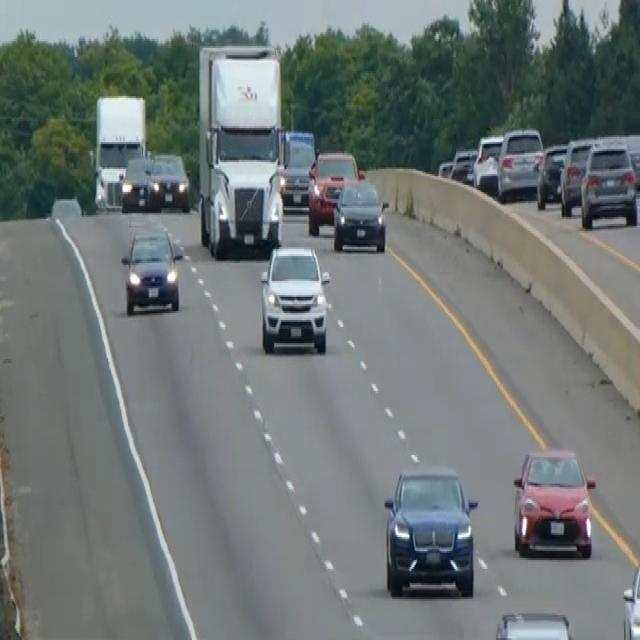car: (382, 464, 478, 597), (512, 444, 596, 558), (120, 226, 183, 314), (580, 138, 638, 228), (307, 149, 360, 235), (332, 176, 388, 252), (497, 126, 544, 201), (277, 126, 316, 208), (559, 135, 597, 215), (493, 608, 576, 638), (120, 153, 161, 211), (150, 151, 190, 210), (535, 142, 568, 208), (472, 133, 503, 192), (621, 556, 639, 638), (448, 146, 476, 185), (437, 156, 453, 178)
jeep: (258, 242, 331, 356)
lorry: (196, 41, 285, 258)
